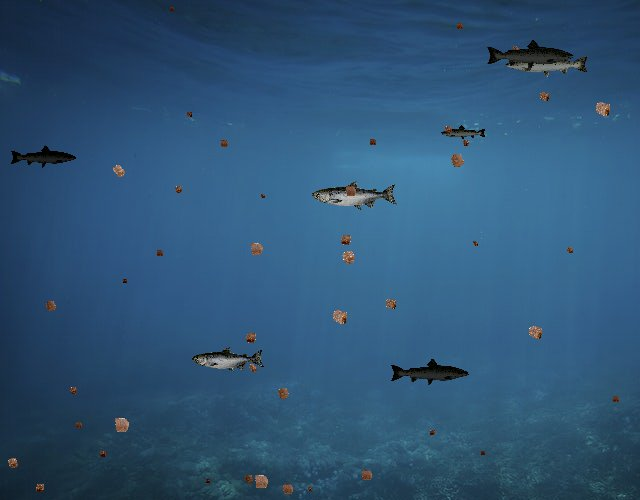Fish: (485, 39, 575, 71), (504, 48, 590, 79), (312, 180, 398, 211), (389, 357, 470, 387), (192, 346, 265, 372), (10, 144, 78, 169), (440, 125, 487, 142)
Pellet: (106, 410, 136, 440), (243, 236, 270, 263), (1, 452, 24, 474), (240, 327, 262, 349), (366, 135, 380, 149), (183, 109, 196, 122)
